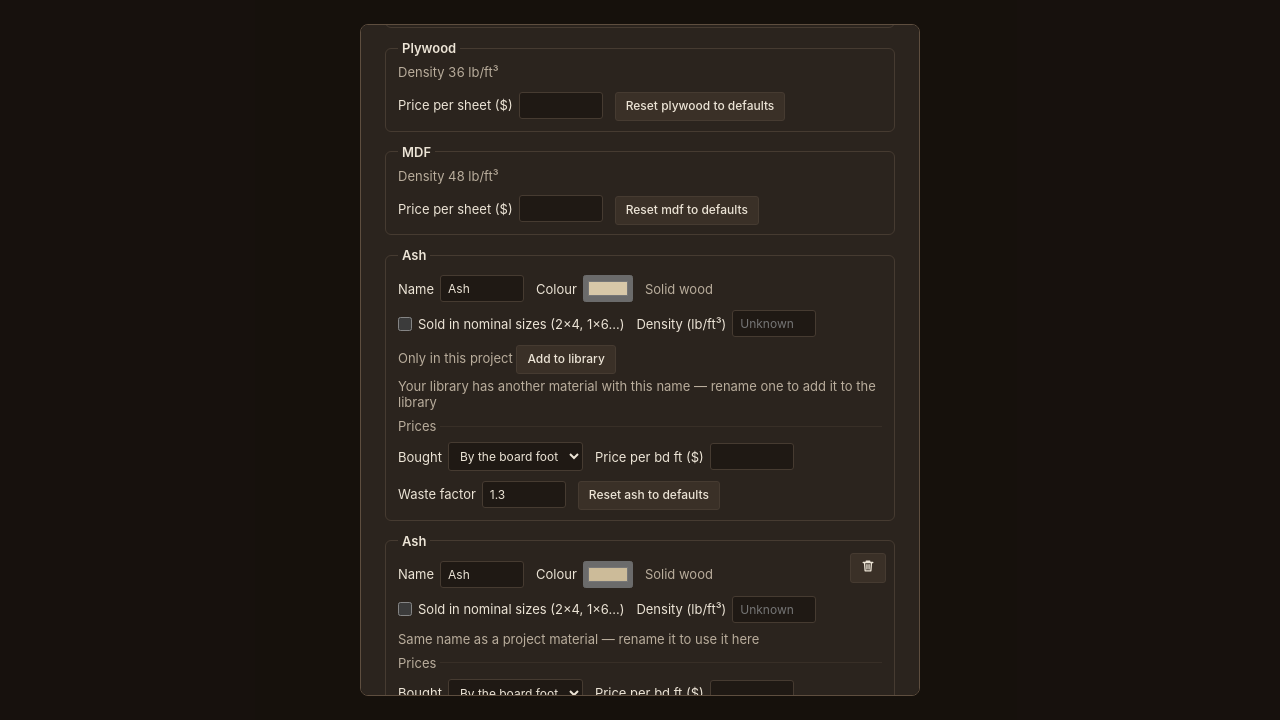
Scenario: MaterialsDialog — definitions (custom materials spec §4.1) › shows one "Ash" note pair for an imported clash and refuses Add to library
The image size is (1280, 720).
(page scrolled)
Expected: the text "Same name as a project material — rename it to use it here" is shown, [398,631,759,647]
Click the button "Add to library". click: x=566, y=360
box: [516,345,616,374]
(page scrolled)
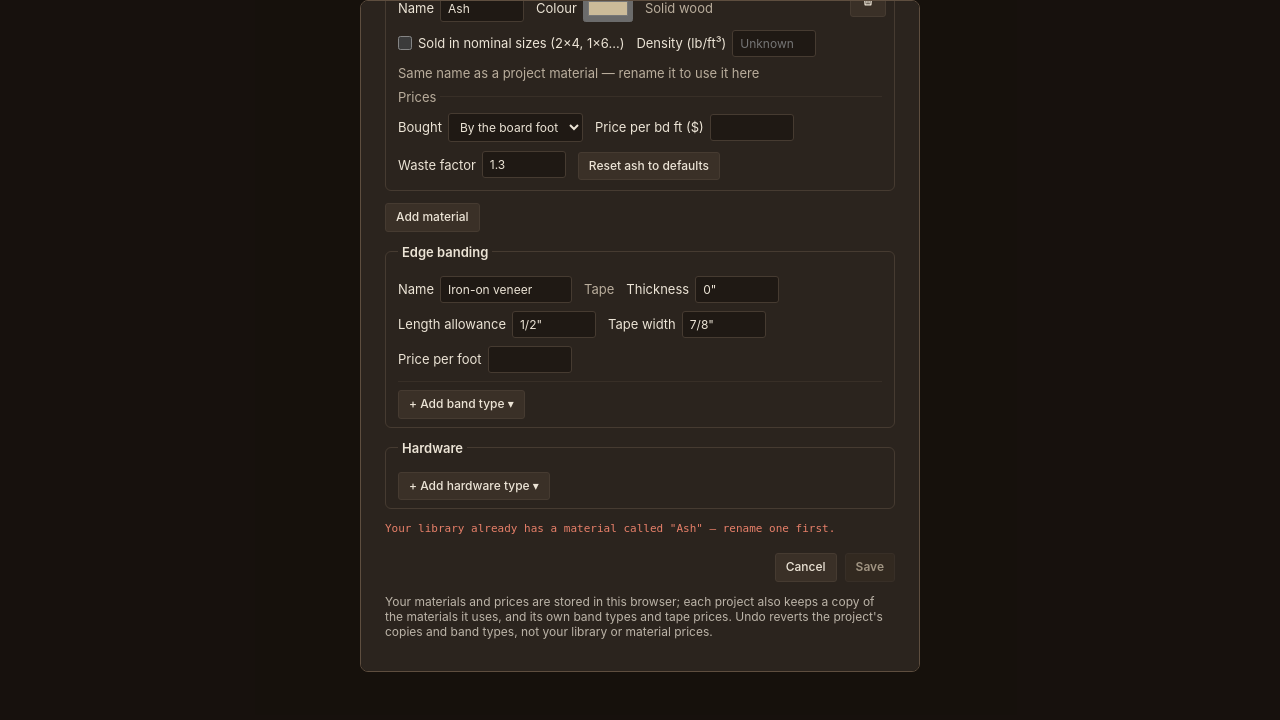
Expected: the text "Your library already has a material called \"Ash\" — rename one first." is shown, [385,522,895,537]
Expected: the button "Save" is disabled, [845,553,895,582]
